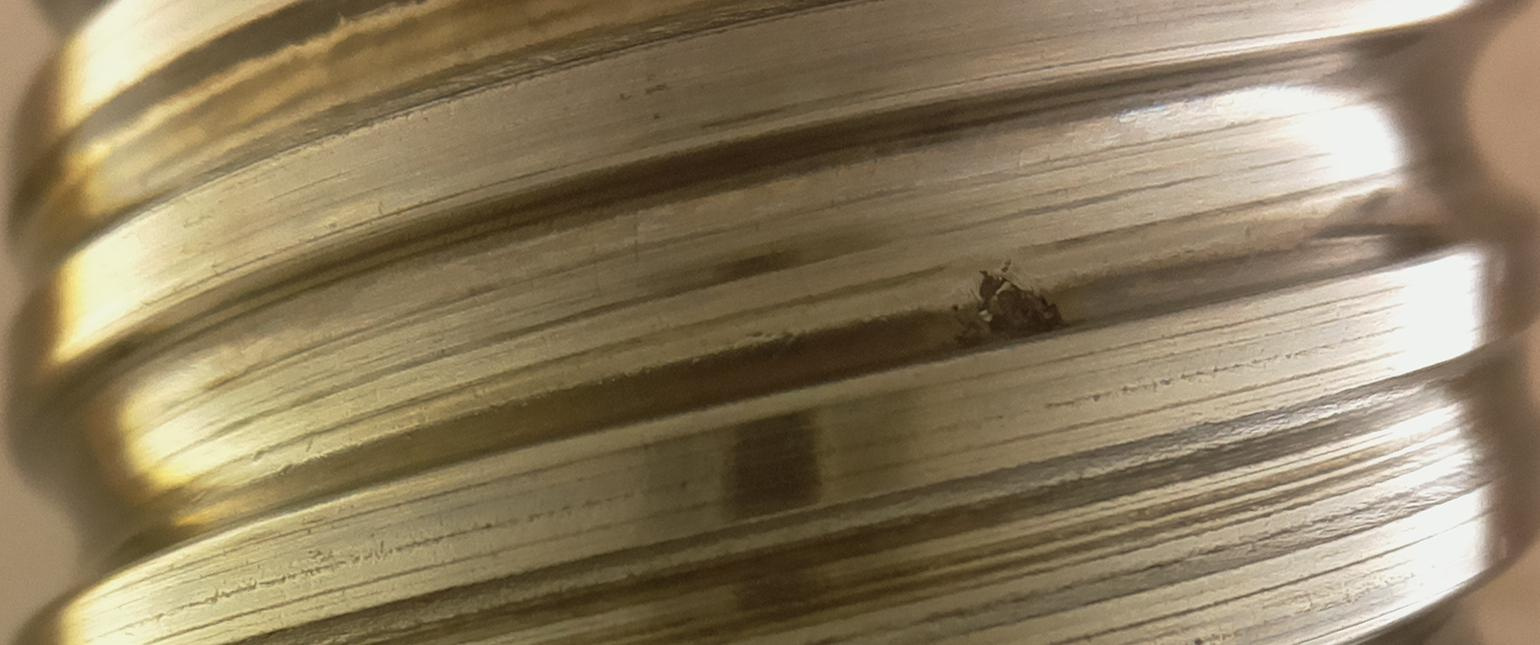pitting: (954, 270, 1071, 348)
